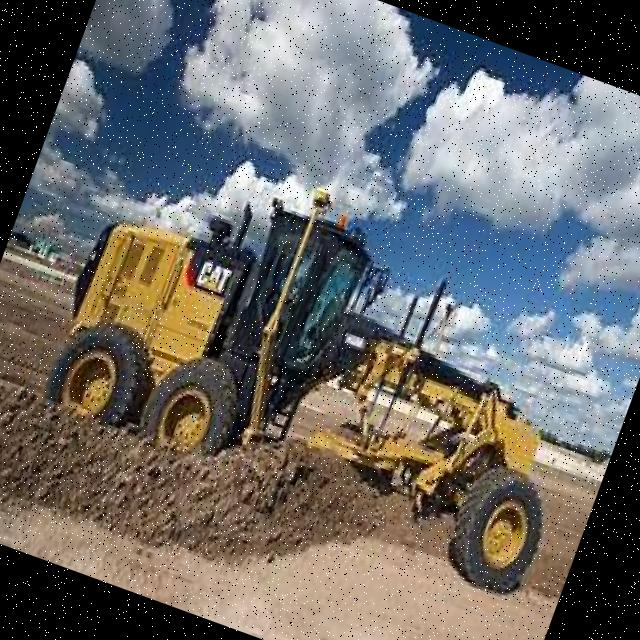Grader: (6, 118, 634, 635)
